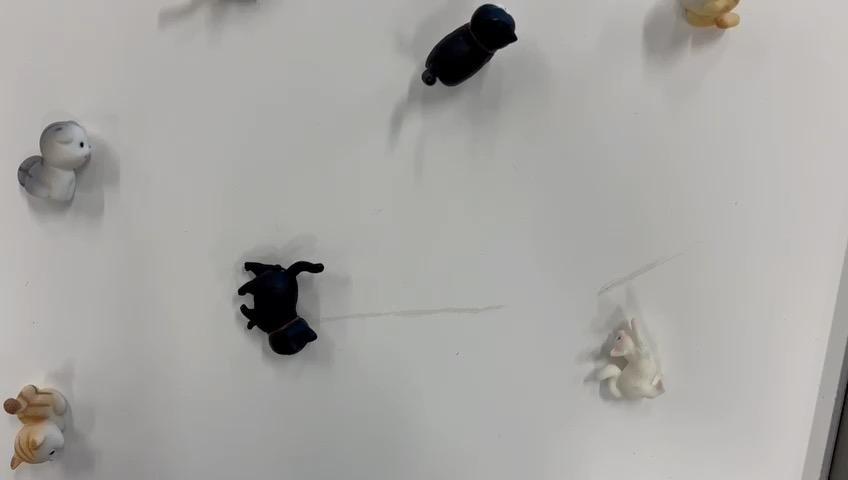pet: (234, 253, 329, 359), (417, 0, 522, 93), (589, 313, 673, 406), (13, 116, 94, 209), (2, 370, 73, 472)
